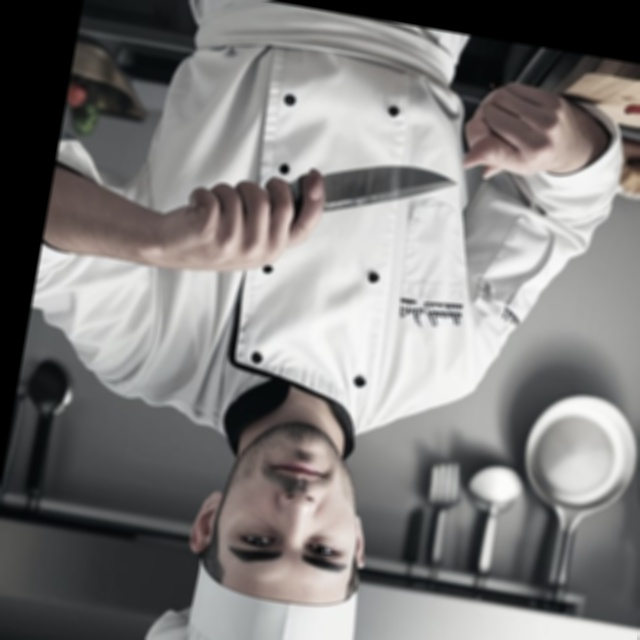Sharp-Object: (203, 132, 462, 261)
